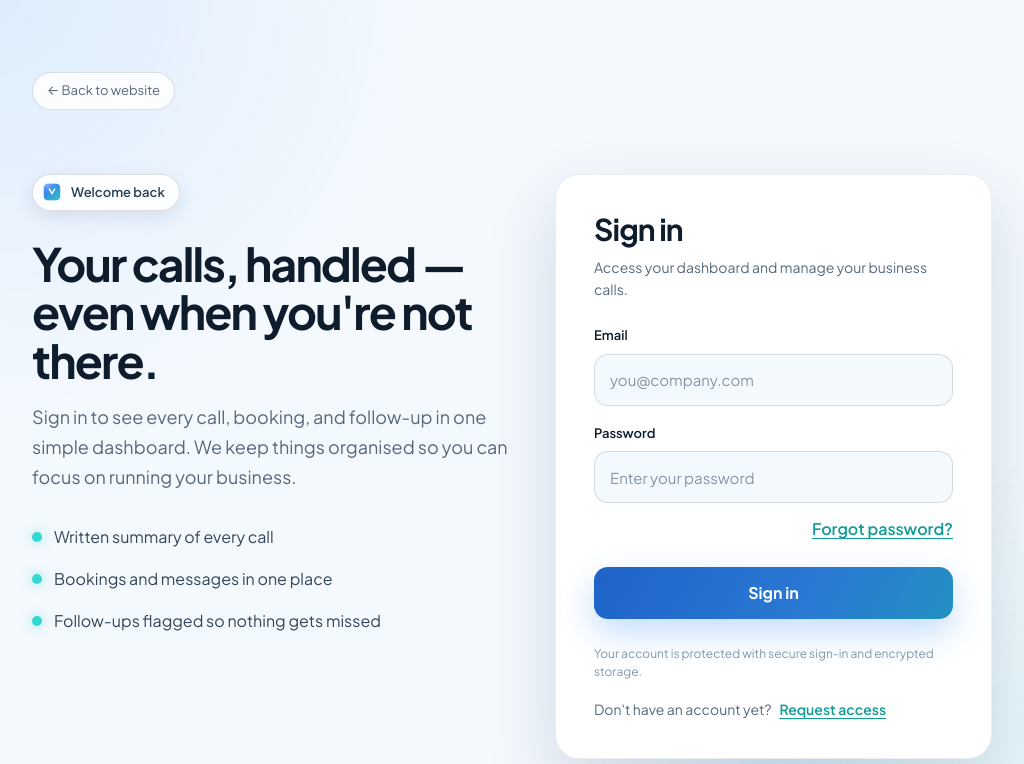
Test case: Login › shows the message the auth layer returns, not a vendor error code
Type "staff@clinic.test" into the field labelled "Email" at (774, 380), box [594,354,953,406]
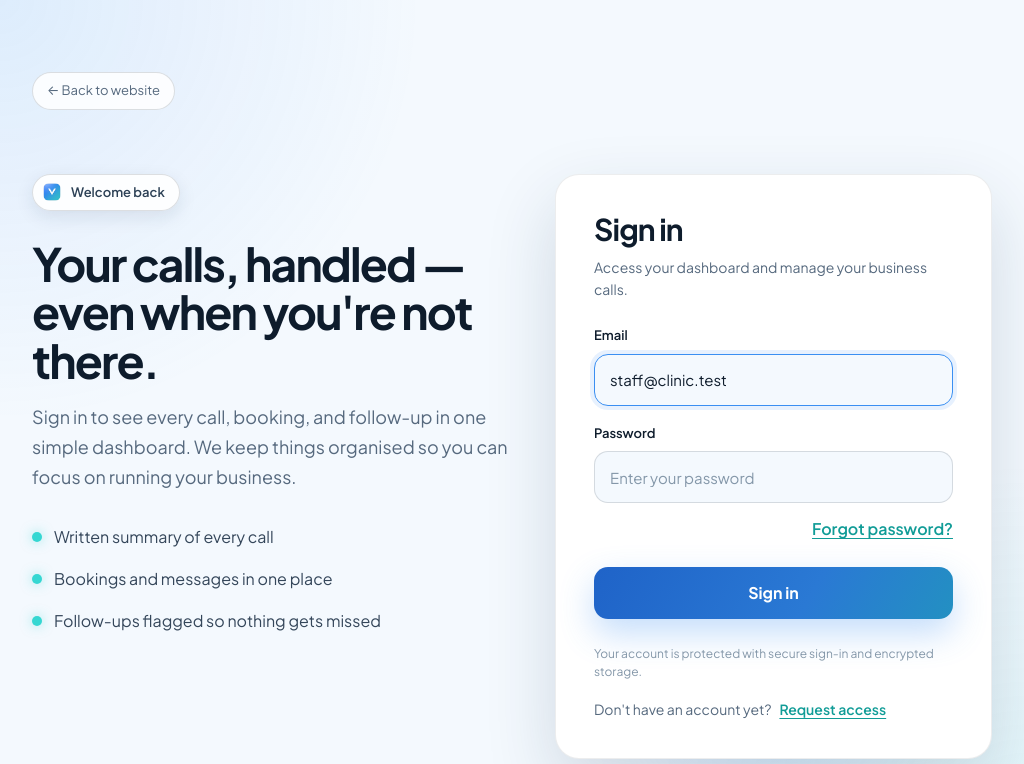
Type "wrong" into the password field labelled "Password" at (774, 477), box [594,451,953,503]
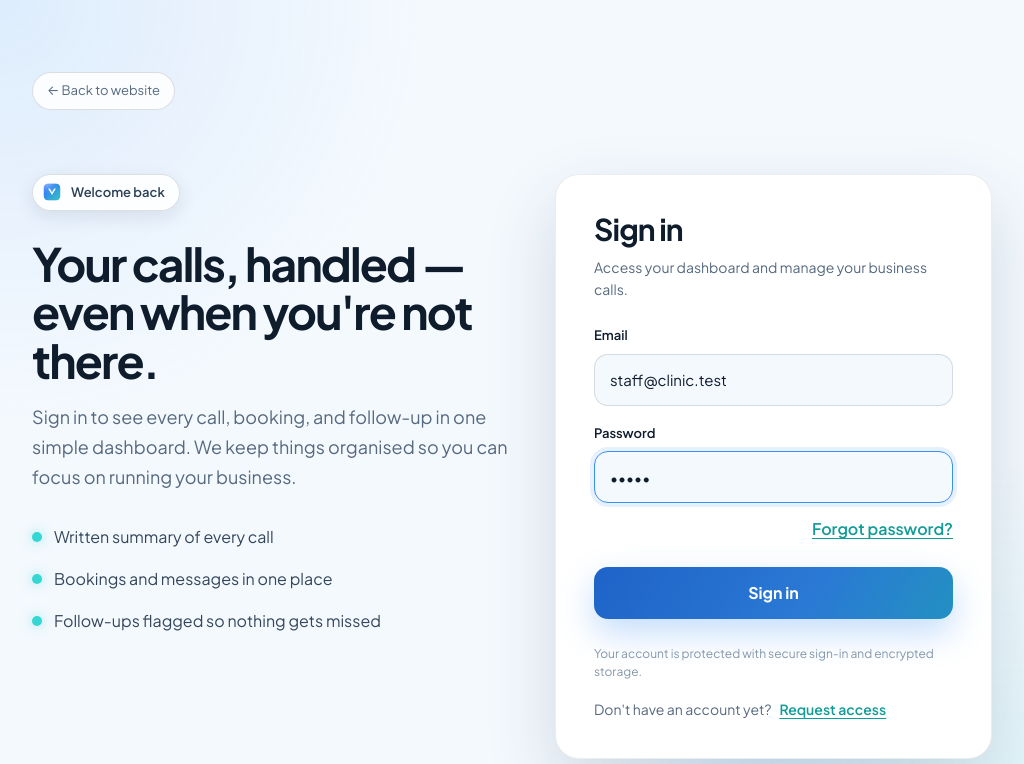
Click the button "Sign in" at (774, 593), box [594,567,953,619]
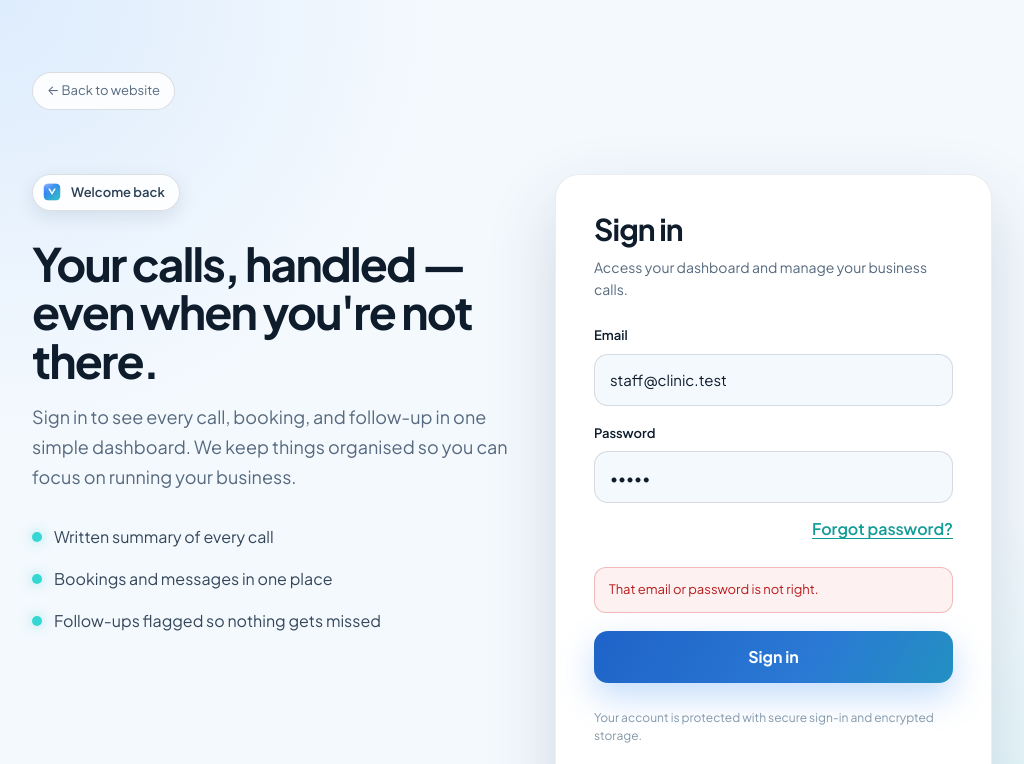
Check: the text "That email or password is not right." is shown, box [594,567,953,613]
